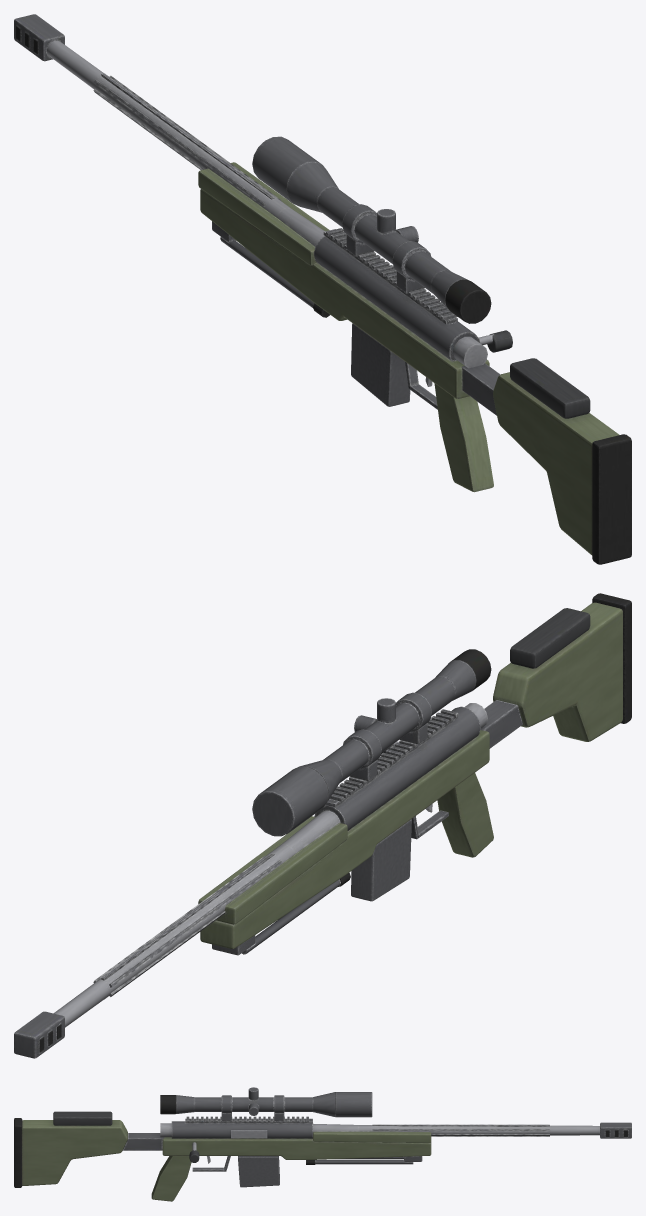
Rendered from sniper_lr12.glb.
3 views of the same model, one above another, from view 1: azimuth 30°, elevation 25°; view 2: azimuth 150°, elevation 25°; view 3: azimuth 270°, elevation 25° (orthographic). The views are drawn at different scales.
Visible parts, largest first — view 1: body, mag, action; view 2: body, mag; view 3: body, mag, action.
Boxes of the visible parts, x1,y1,x2,y2 form: body: (14,14,631,564); mag: (351,323,410,406); action: (453,330,512,368); body: (14,593,631,1058); mag: (351,819,411,901); body: (14,1087,631,1201); mag: (238,1156,279,1187); action: (160,1123,267,1162).
Size of the model in its own units: 0.115 by 0.2665 by 1.36.
Materials: 1 (1 with a texture image).
